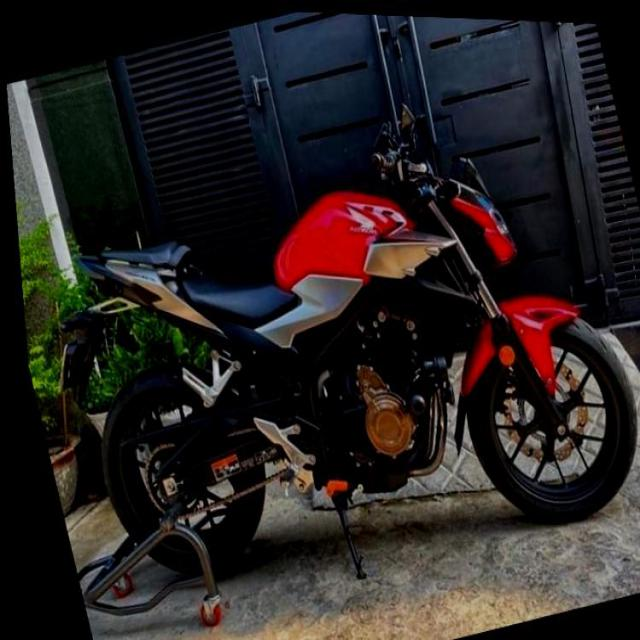CB500F: (25, 106, 639, 639)
